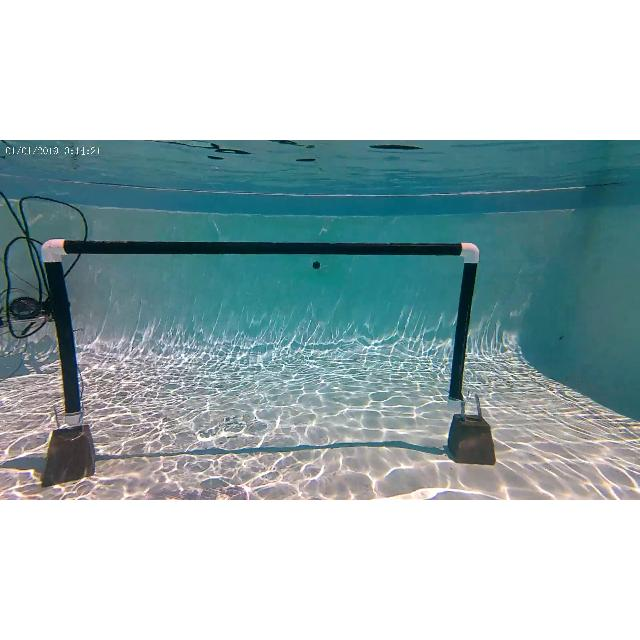prequal gate: (41, 238, 479, 428)
prequal gate leg l: (38, 238, 96, 484)
prequal gate leg r: (447, 238, 497, 467)
